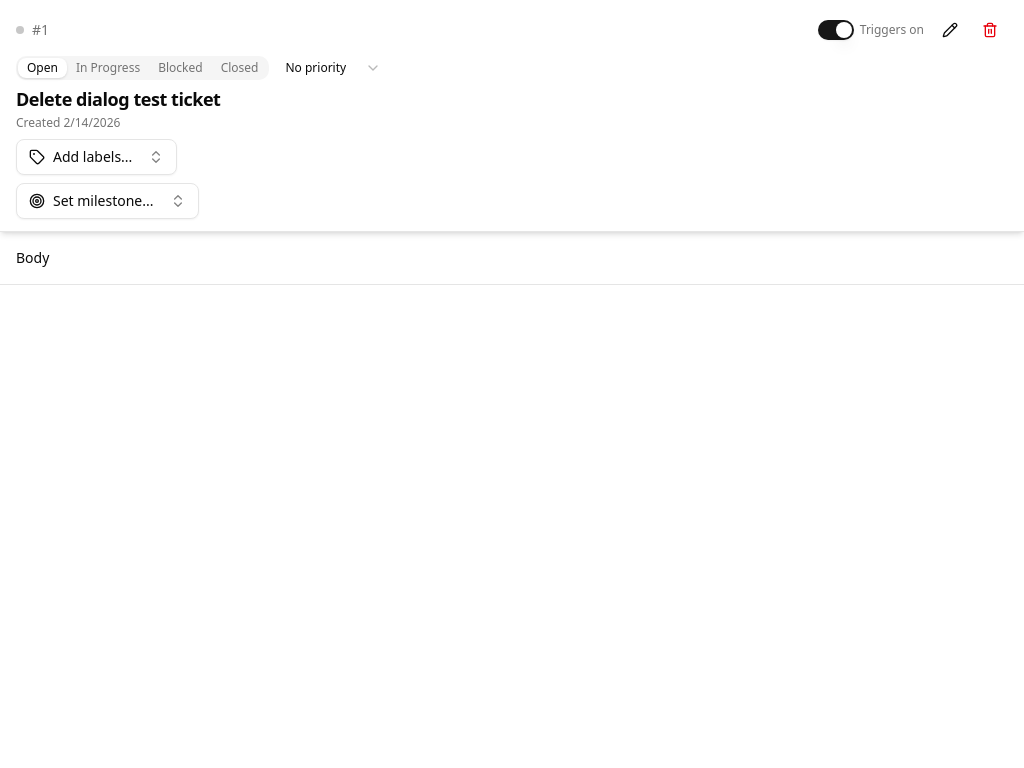
Test: TicketDetail delete dialog › does not delete when canceling or dismissing the dialog
Click the button named "Delete ticket": point(990, 30) [972,12,1008,48]
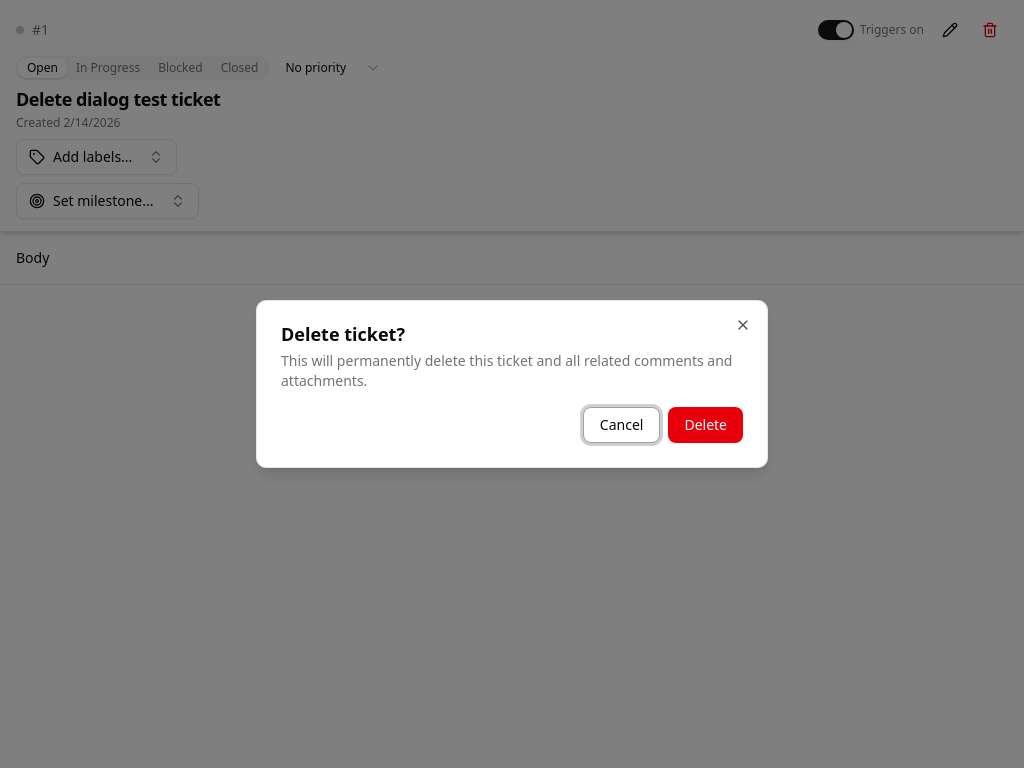
Click the button "Cancel": point(622, 425) [583,407,660,443]
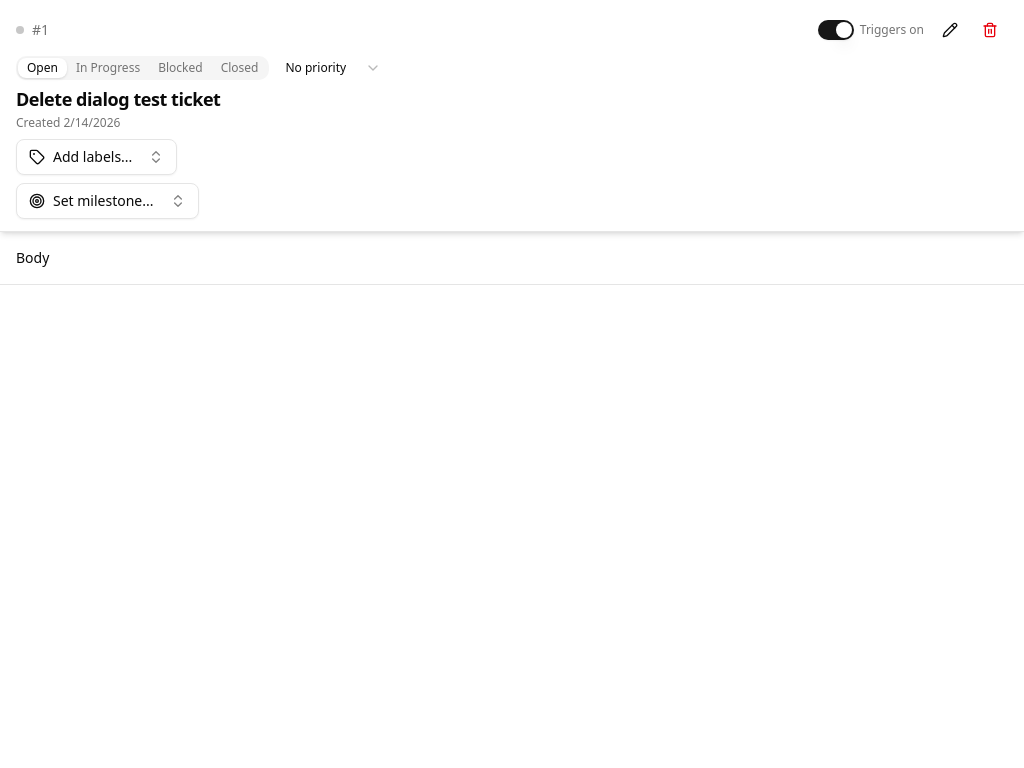
Now the heading "Delete ticket?" is gone
Click the button named "Delete ticket": point(990, 30) [972,12,1008,48]
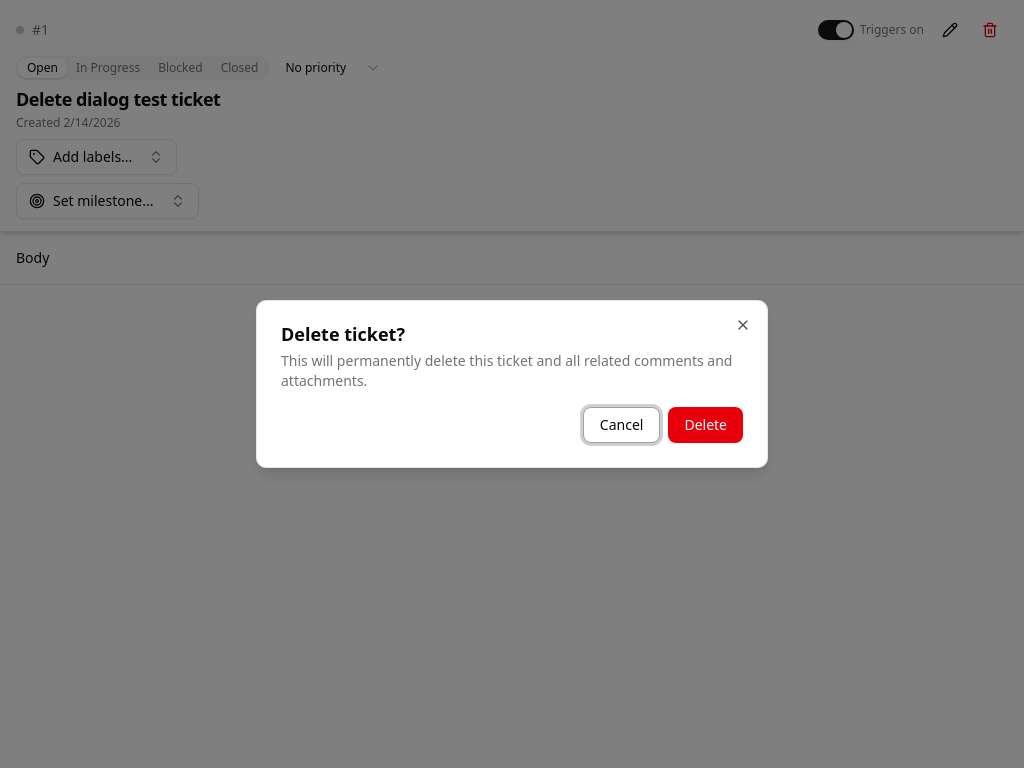
Click the button named "Close": point(743, 325) [735,317,751,333]
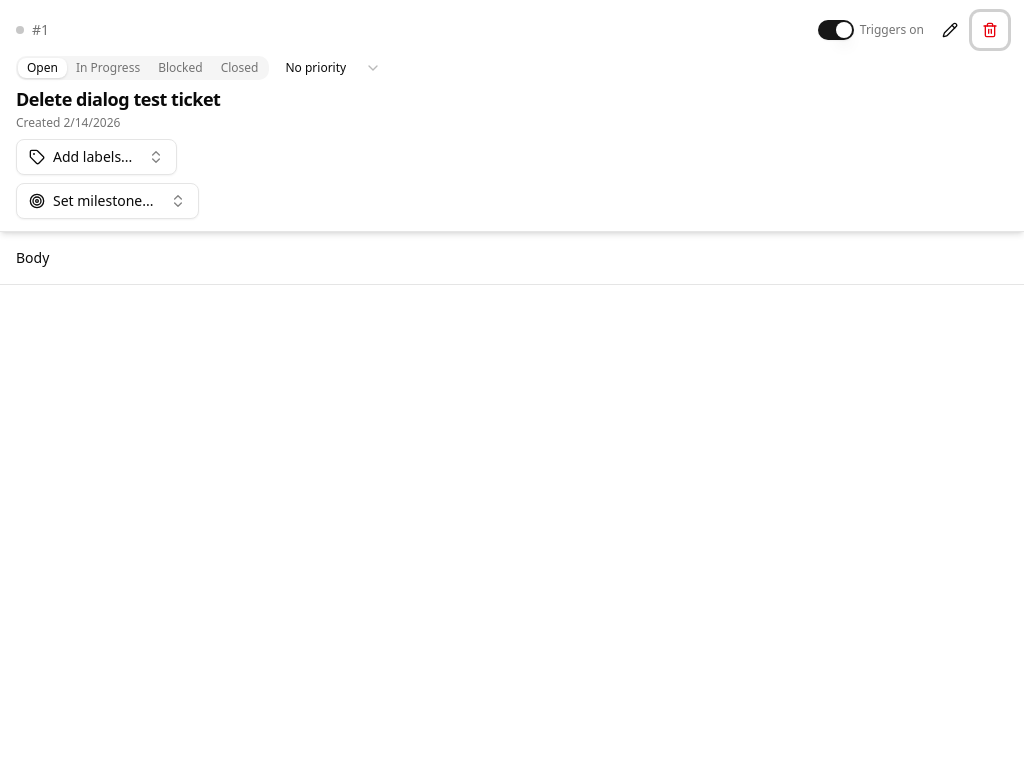
Now the heading "Delete ticket?" is gone
